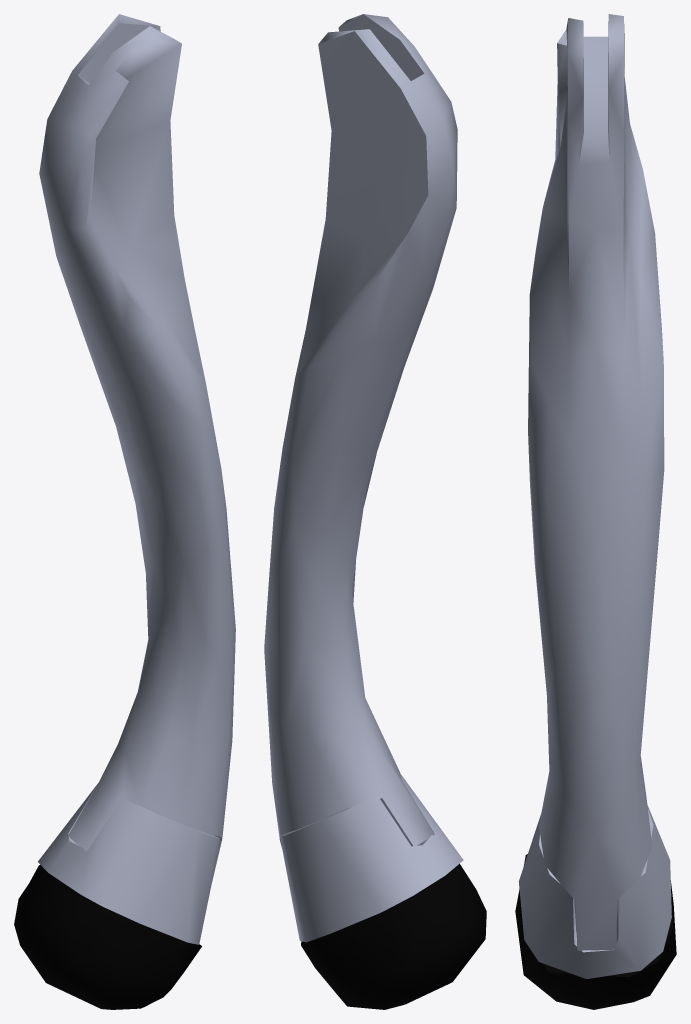
The model's file is calf_dae.dae.
3 views of the same model, side by side, from view 1: azimuth 30°, elevation 25°; view 2: azimuth 150°, elevation 25°; view 3: azimuth 270°, elevation 25° (orthographic).
Visible parts, largest first — view 1: calf_dae; view 2: calf_dae; view 3: calf_dae.
Boxes of the visible parts, x1,y1,x2,y2 form: calf_dae: (14,14,235,1009); calf_dae: (264,14,486,1009); calf_dae: (515,14,676,1009).
Size of the model in its own units: 0.0585 by 0.0393 by 0.2663.
